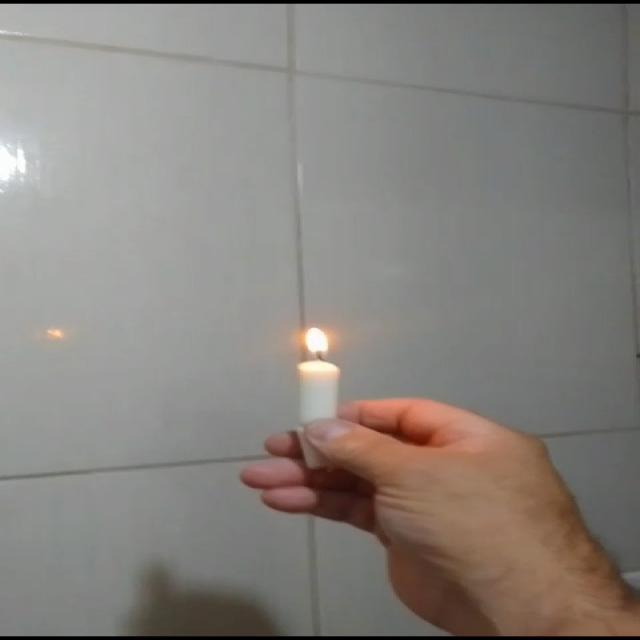fogo-ypXI: (298, 323, 336, 361)
